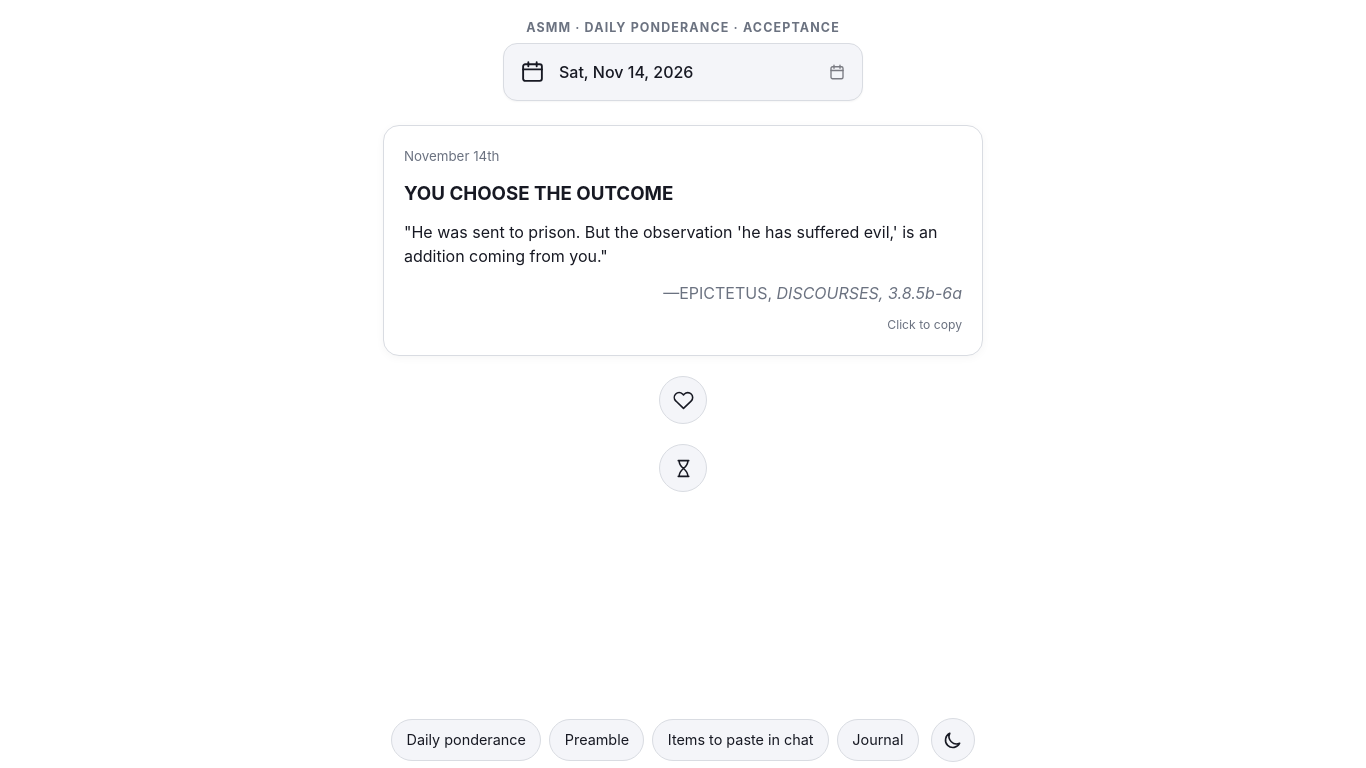
Test: app journeys › chooses a reading date from the calendar
Click the button with class "date-picker-trigger" at (683, 72), box [503,43,863,101]
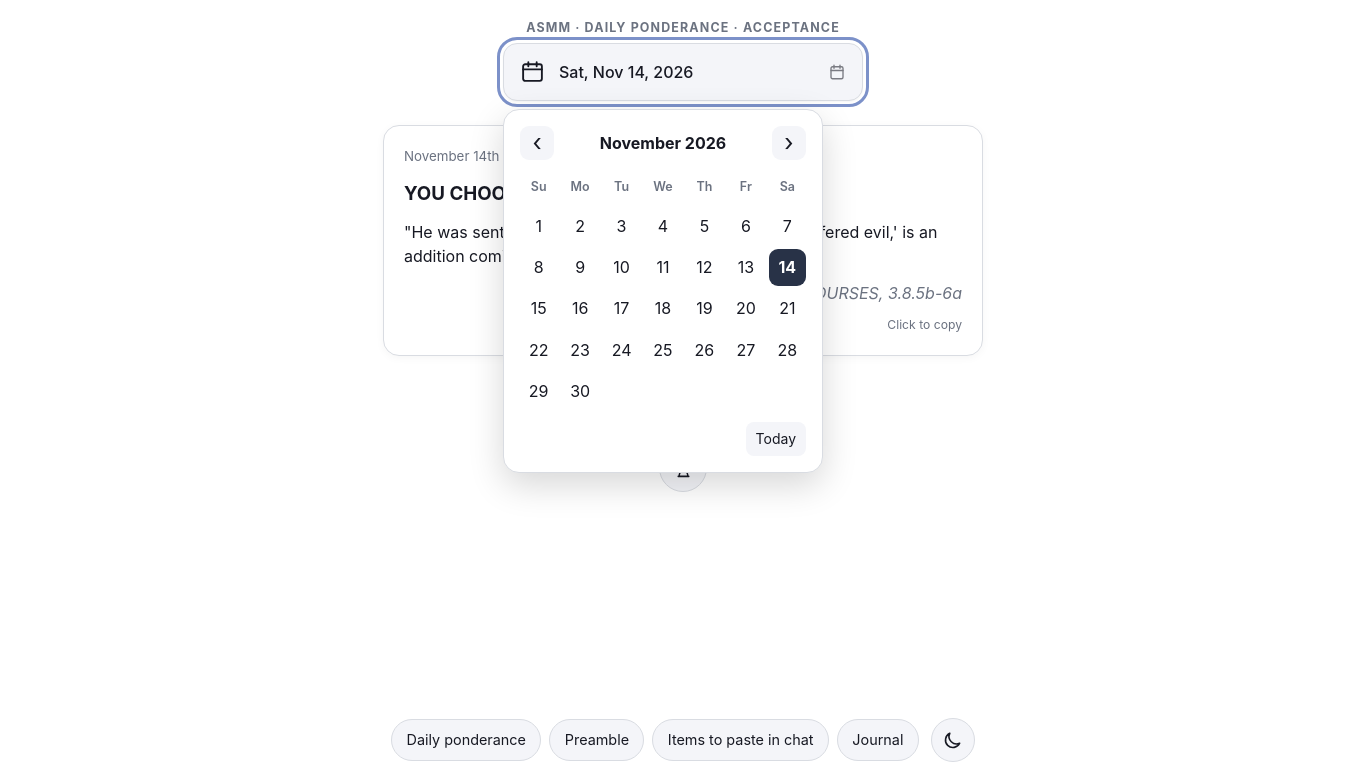
Check: the dialog named "Choose a date" is shown, box [503,109,823,473]
Click the button "1" at (539, 226), box [520,207,557,245]
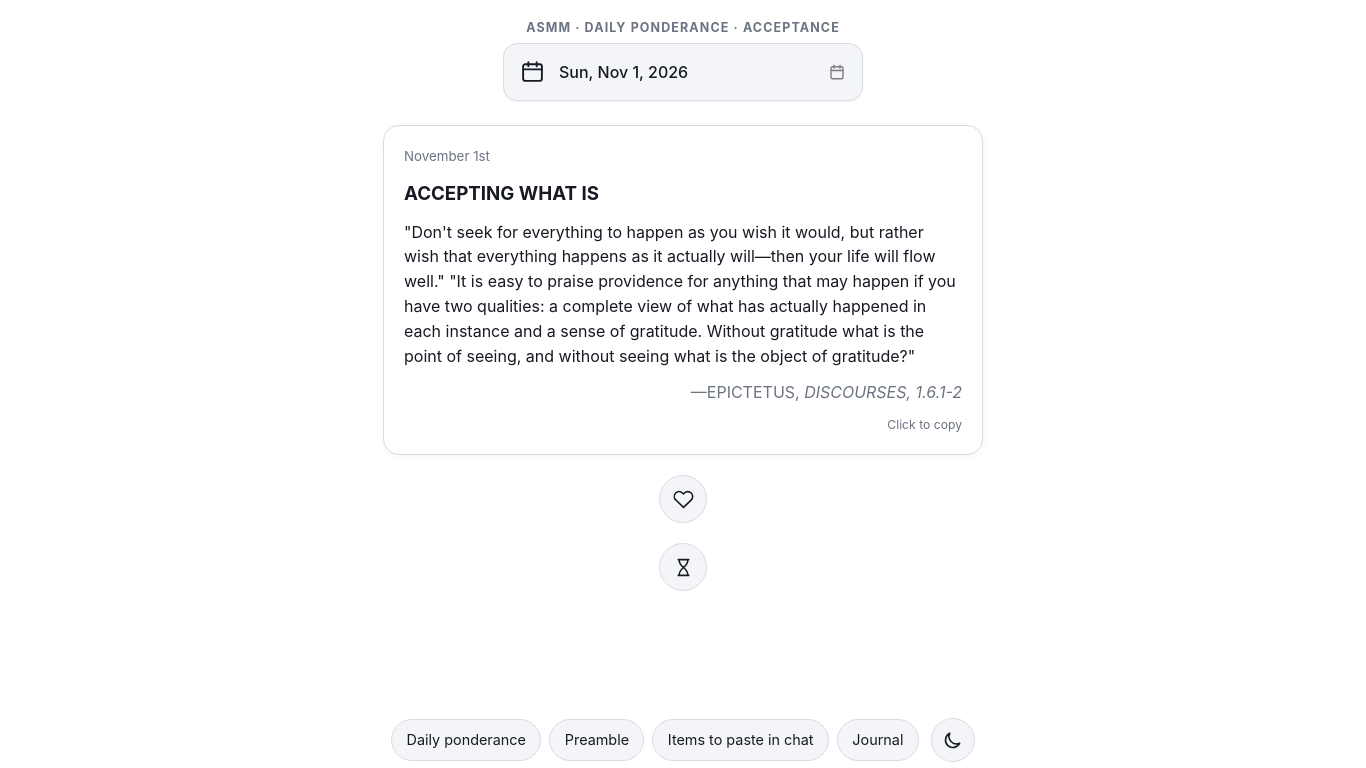
Check: the text "November 1st" is shown, box [404,148,490,164]
